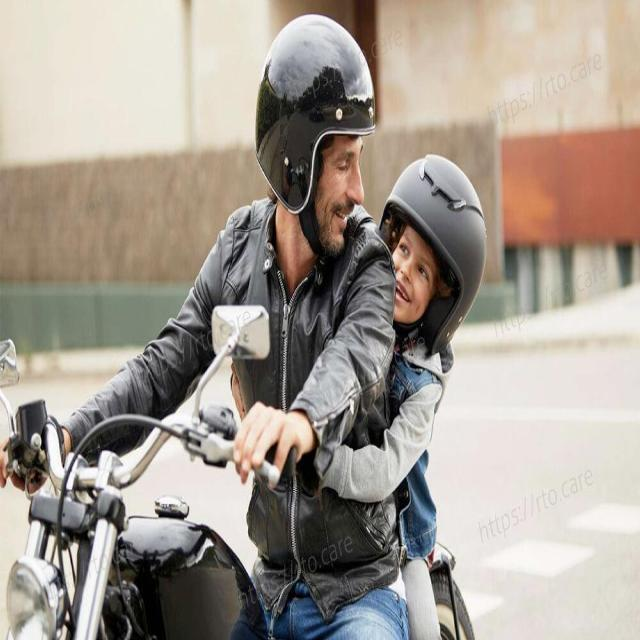helmet: (254, 14, 378, 268)
